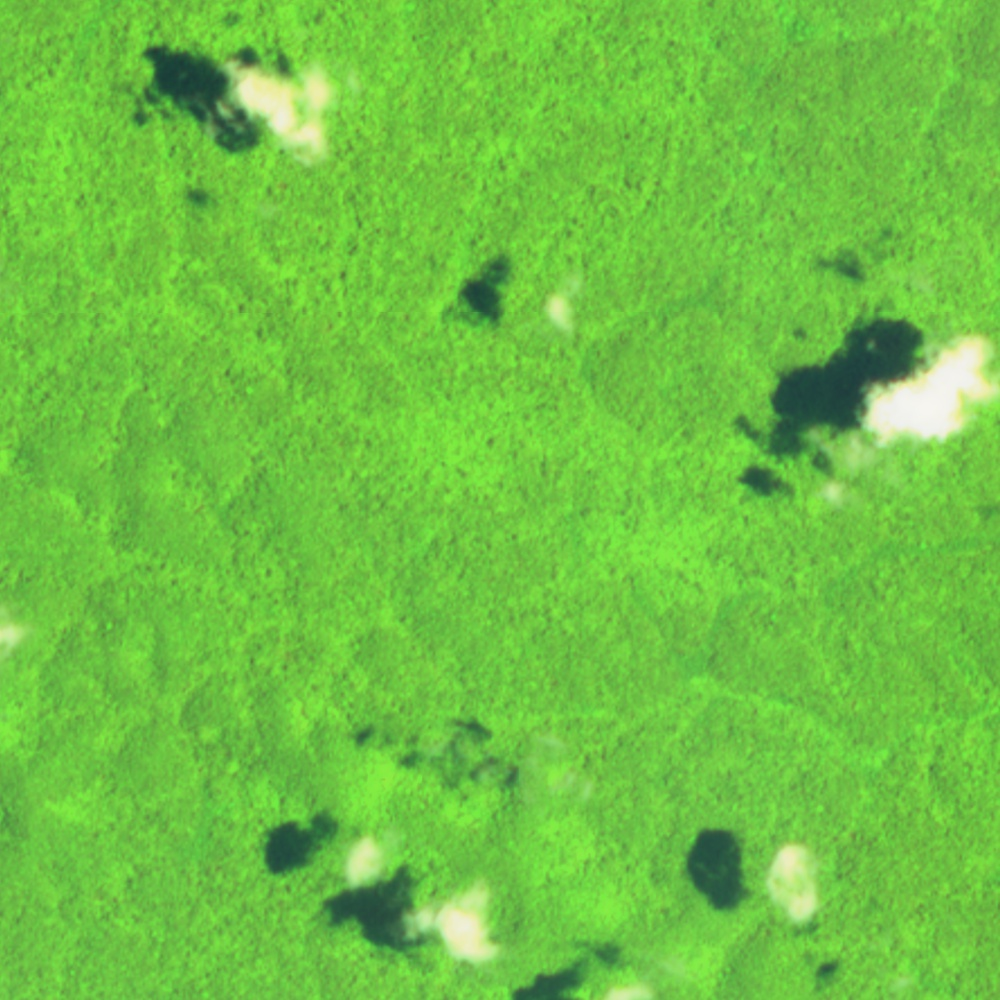illegal: (690, 665, 883, 767)
